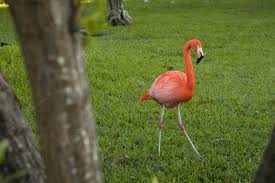Walking: (128, 36, 230, 167)
